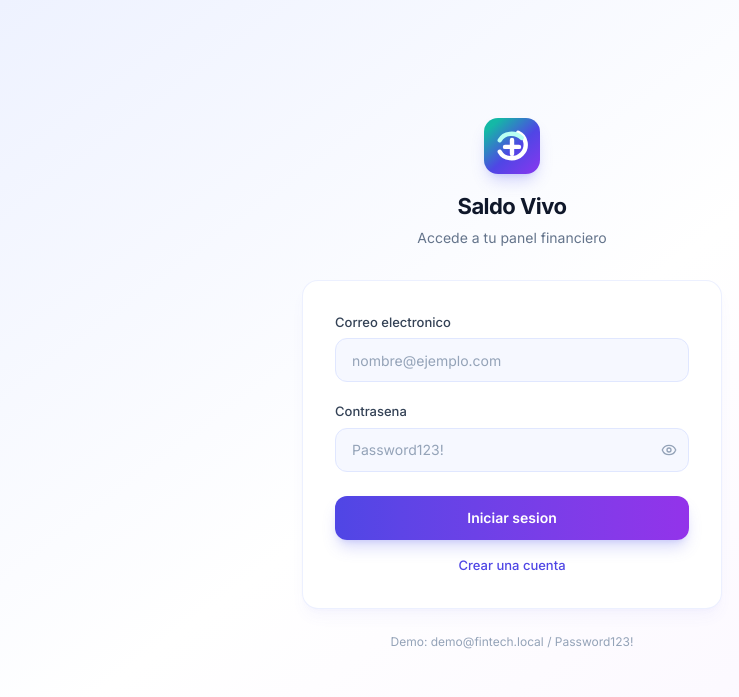
App › shows error message on failed login
The width and height of the screenshot is (739, 697).
Type "test@test.com" into the field with placeholder "nombre@ejemplo.com" at (512, 360), box [335,338,689,382]
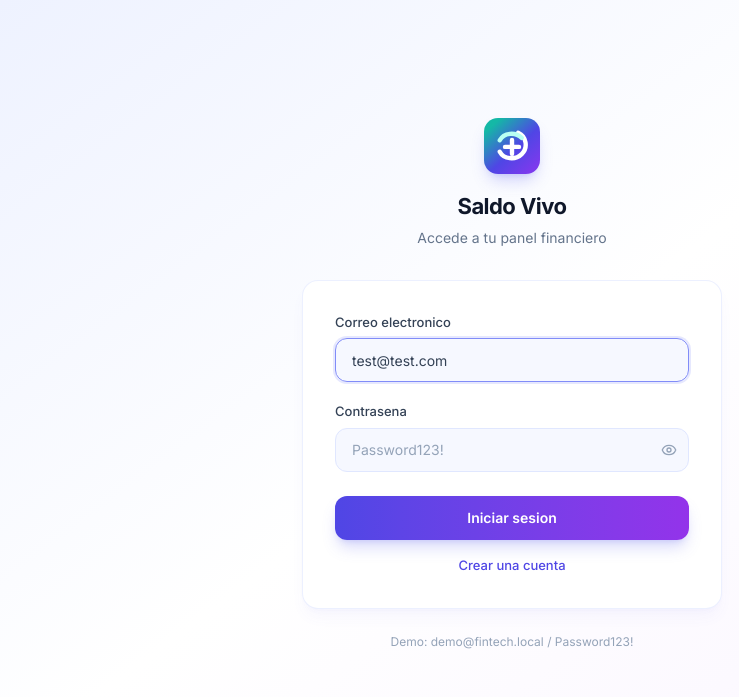
Type "wrongpass" into the password field with placeholder "Password123!" at (512, 450), box [335,428,689,472]
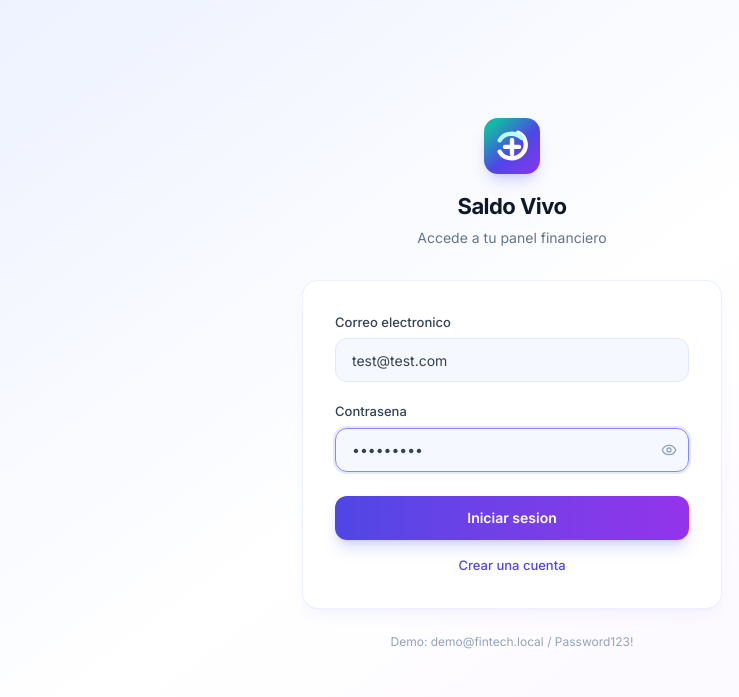
Click the button "Iniciar sesion" at (512, 518), box [335,496,689,540]
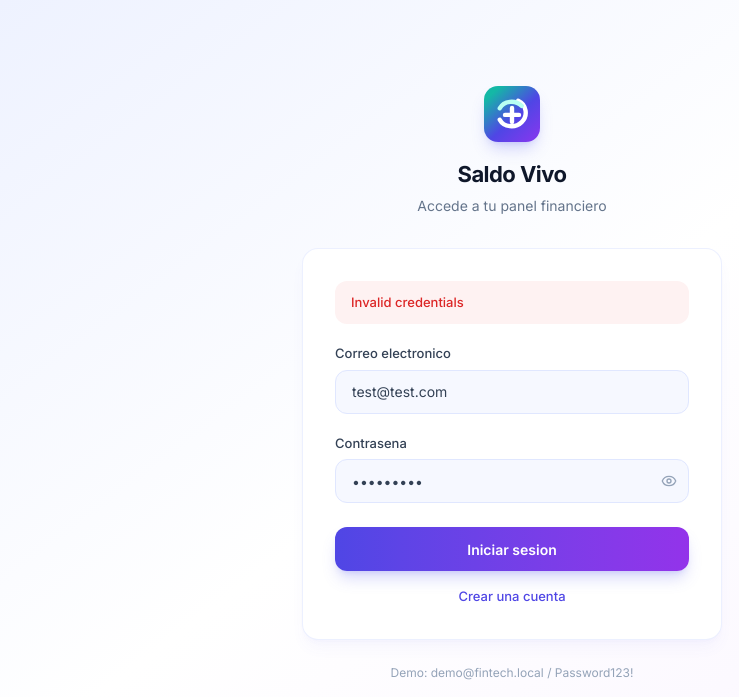
expect the text "Invalid credentials" is shown: met, box [335,281,689,324]
